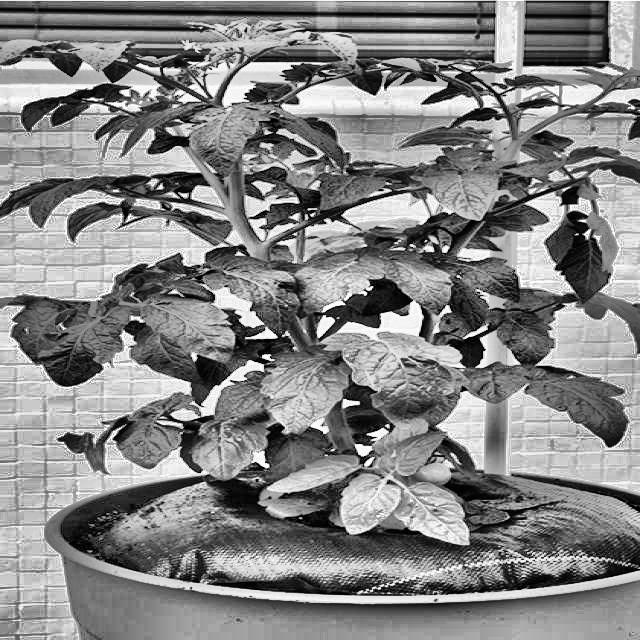plants: (3, 29, 639, 554)
